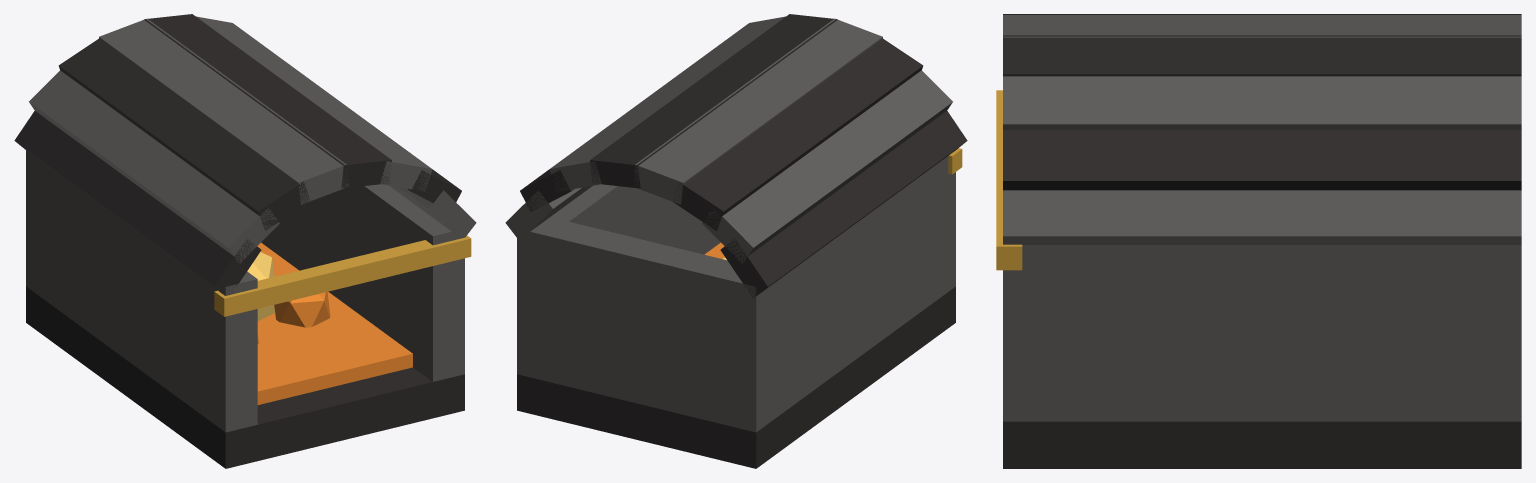
Rendered from TrainFurnace.fbx.
3 views of the same model, side by side, from view 1: azimuth 30°, elevation 25°; view 2: azimuth 150°, elevation 25°; view 3: azimuth 270°, elevation 25° (orthographic). The views are drawn at different scales.
Parts seen in each view (by area): view 1: TrainFurnace; view 2: TrainFurnace; view 3: TrainFurnace.
Boxes of the visible parts, box(x1,y1,x2,y2) form: TrainFurnace: box(14, 14, 476, 468); TrainFurnace: box(505, 14, 967, 468); TrainFurnace: box(996, 14, 1521, 468).
Bounding box in the file's own units: 6 × 6 × 8.
